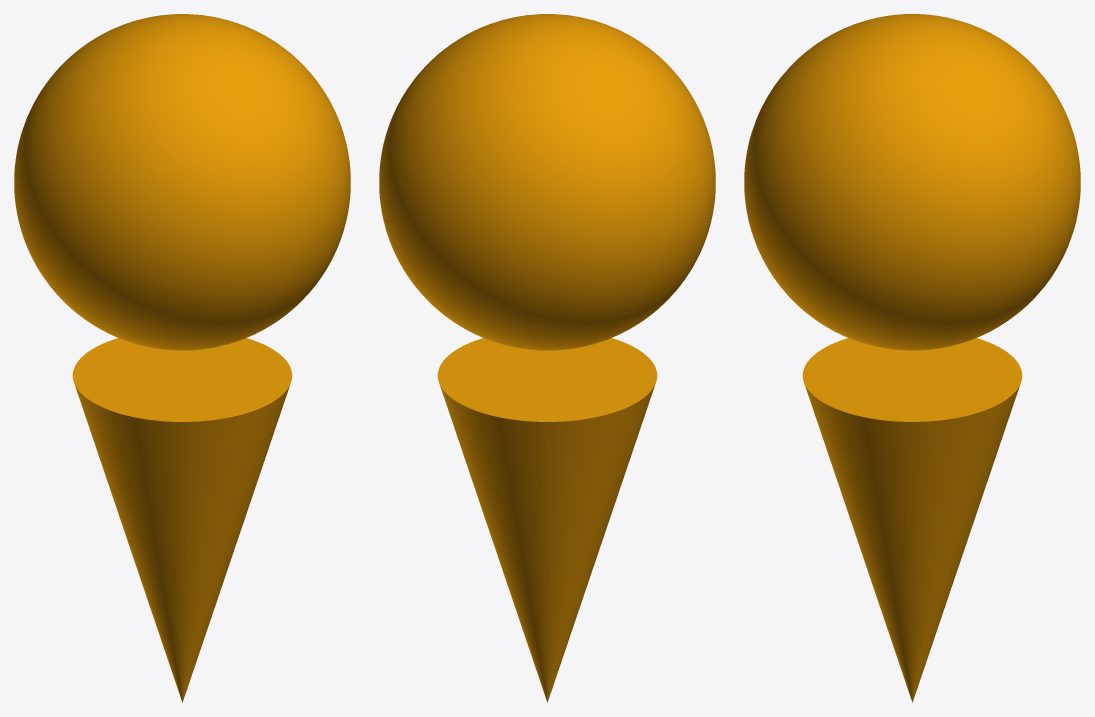
Rendered from Player.fbx.
3 views of the same model, side by side, from view 1: azimuth 30°, elevation 25°; view 2: azimuth 150°, elevation 25°; view 3: azimuth 270°, elevation 25° (orthographic).
Parts seen in each view (by area): view 1: player 2024-11-13 15_12_53; view 2: player 2024-11-13 15_12_53; view 3: player 2024-11-13 15_12_53.
Part boxes in pixels (x1,y1,x2,y2): player 2024-11-13 15_12_53: (14,14,350,702); player 2024-11-13 15_12_53: (379,14,715,702); player 2024-11-13 15_12_53: (744,14,1080,702).
Size of the model in its own units: 91.27 by 201 by 91.22.
